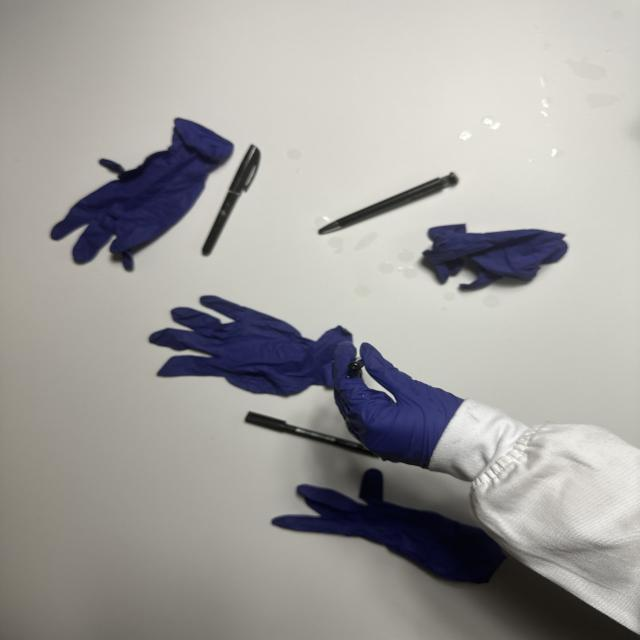gloves_contaminated: (333, 342, 463, 468)
